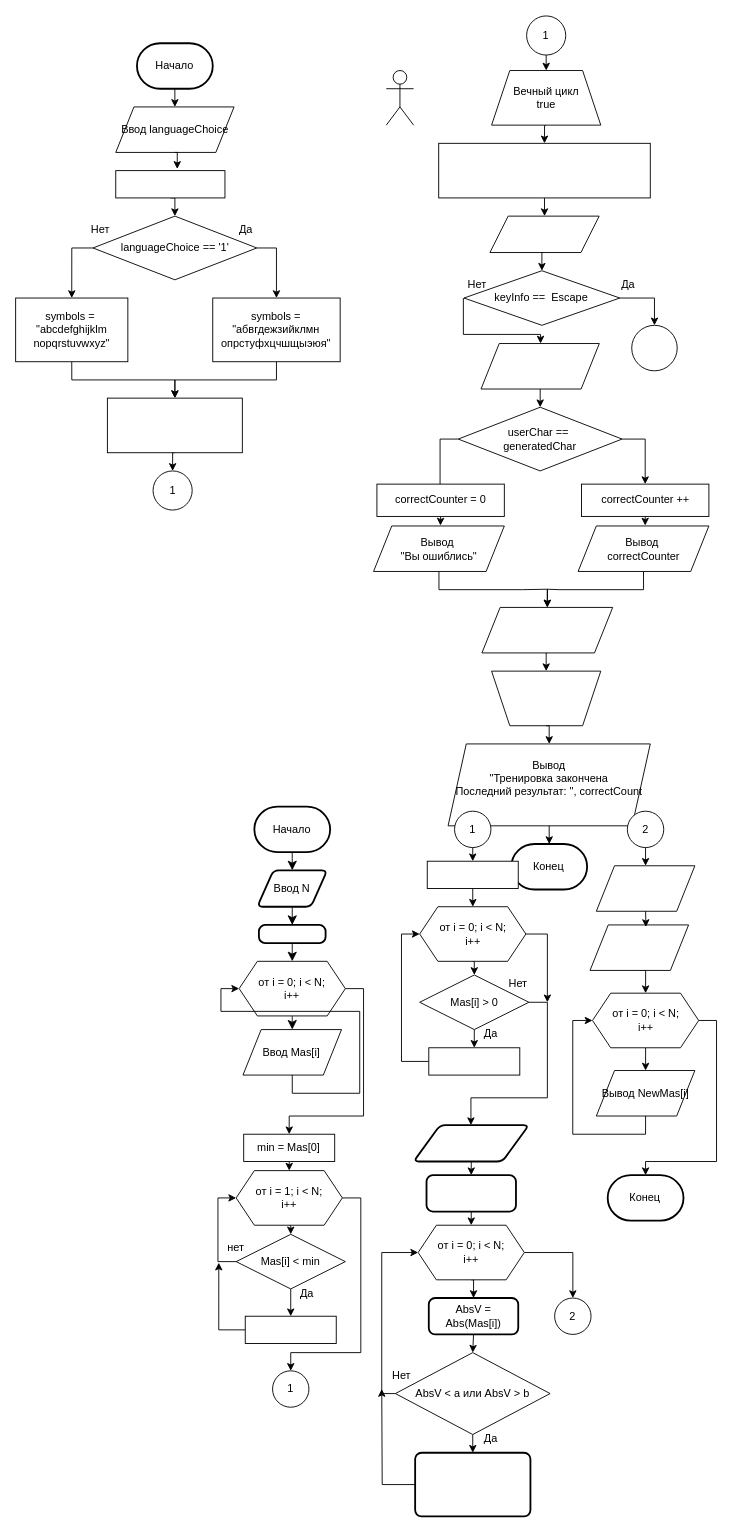
Image size: 741x1533. Some labels were removed from this diagram. Here are the shapes that lost their labels. From the top down, the centre of each, then its label:
point 399,97: Actor
point 170,184: symbols = ""
point 544,170: index = random(0, symbols.Length) generatedChar = symbols[index]
point 544,234: ввод keyInfo
point 539,366: Ввод userChar
point 654,347: break
point 174,425: random = Random() correctCount = 0
point 547,630: Вывод "\n"
point 546,698: Вечный цикл
point 472,874: sum = 0
point 645,888: Вывод min
point 292,934: Mas[N]
point 639,947: Вывод sum
point 474,1061: sum = sum + Mas[i]
point 470,1143: Ввод A и B
point 470,1193: NewMas[N] index = 0
point 290,1329: min = Mas[i]
point 472,1484: NewMas[index] = Mas[i] index ++
